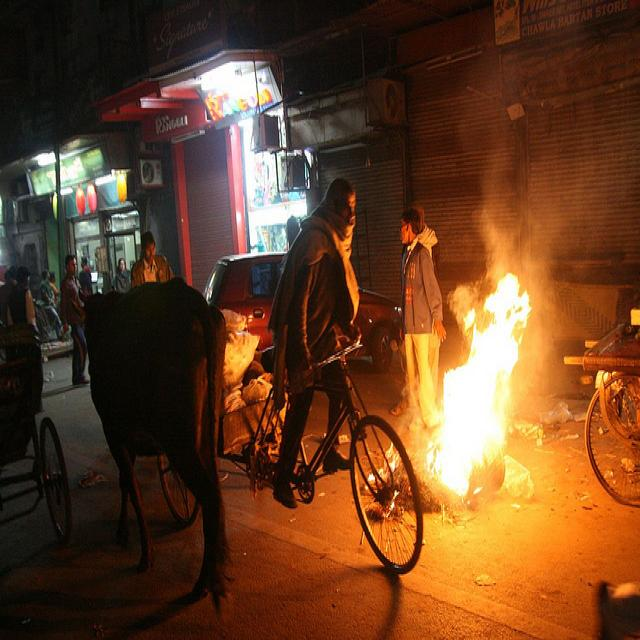Bicycle: (237, 390, 511, 578)
People: (303, 161, 362, 413), (405, 194, 458, 418), (56, 241, 93, 376), (130, 216, 169, 282), (13, 257, 40, 344)
car: (208, 232, 434, 386)
